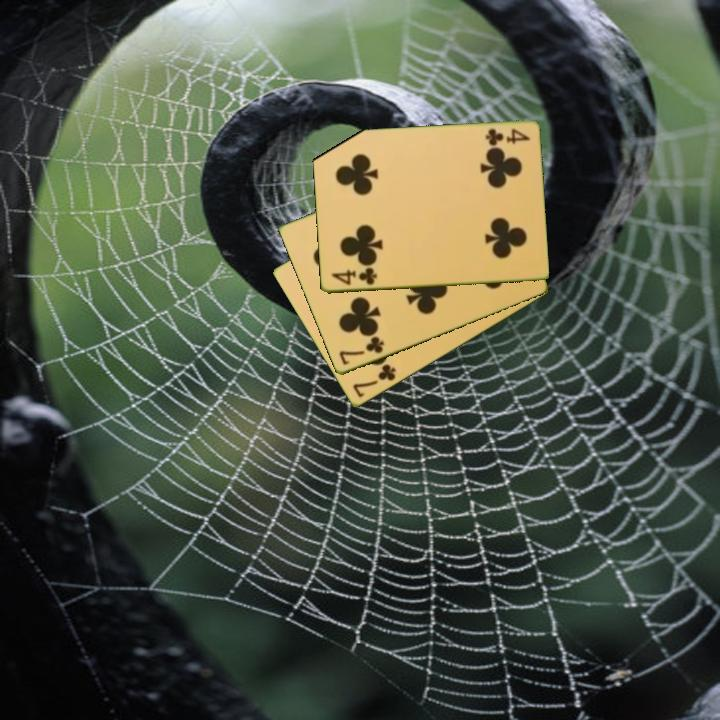4c: (328, 265, 380, 288), (481, 125, 533, 148)
7c: (349, 360, 399, 401), (335, 333, 387, 368)
